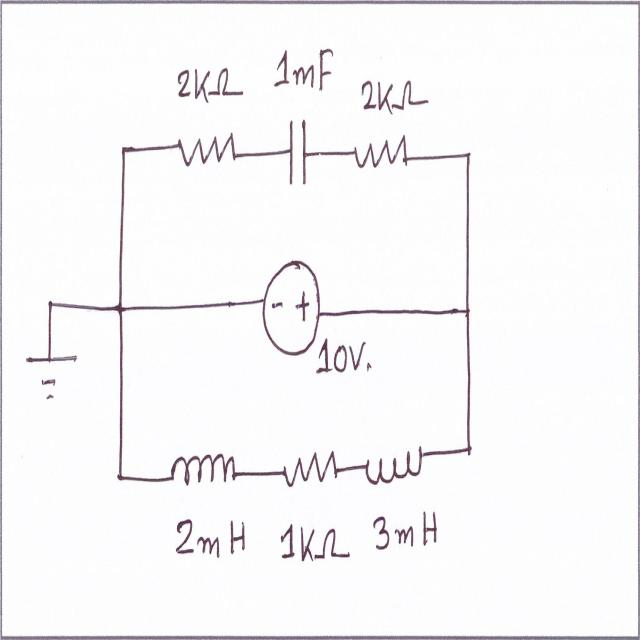capacitor: (284, 105, 313, 193)
ground: (19, 345, 79, 409)
inductor: (169, 434, 240, 496), (364, 439, 424, 489)
resistor: (344, 120, 415, 184), (173, 124, 240, 177), (280, 443, 340, 498)
voltage_source: (256, 246, 322, 360)
